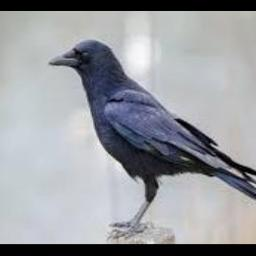Crow: (49, 39, 256, 240)
